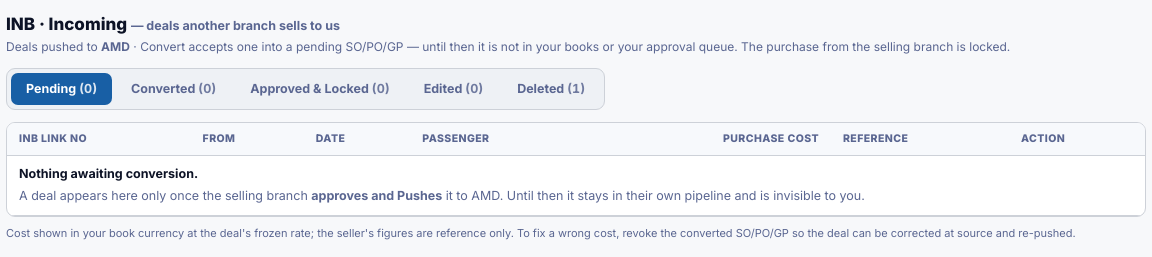
Test case: a deleted deal stays visible for audit and offers no Delete button
This screenshot has width=1152, height=257.
Click the tab "Deleted (1)". click: x=551, y=89
box: [502,72,600,105]
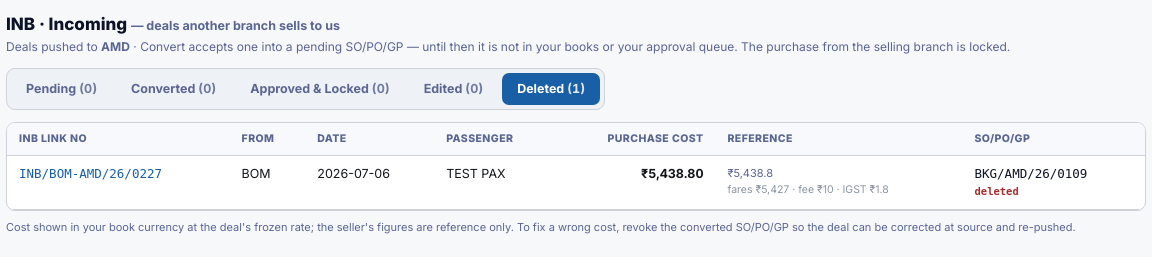
Expected: the text "BKG/AMD/26/0109" is shown, [974,166,1087,181]
